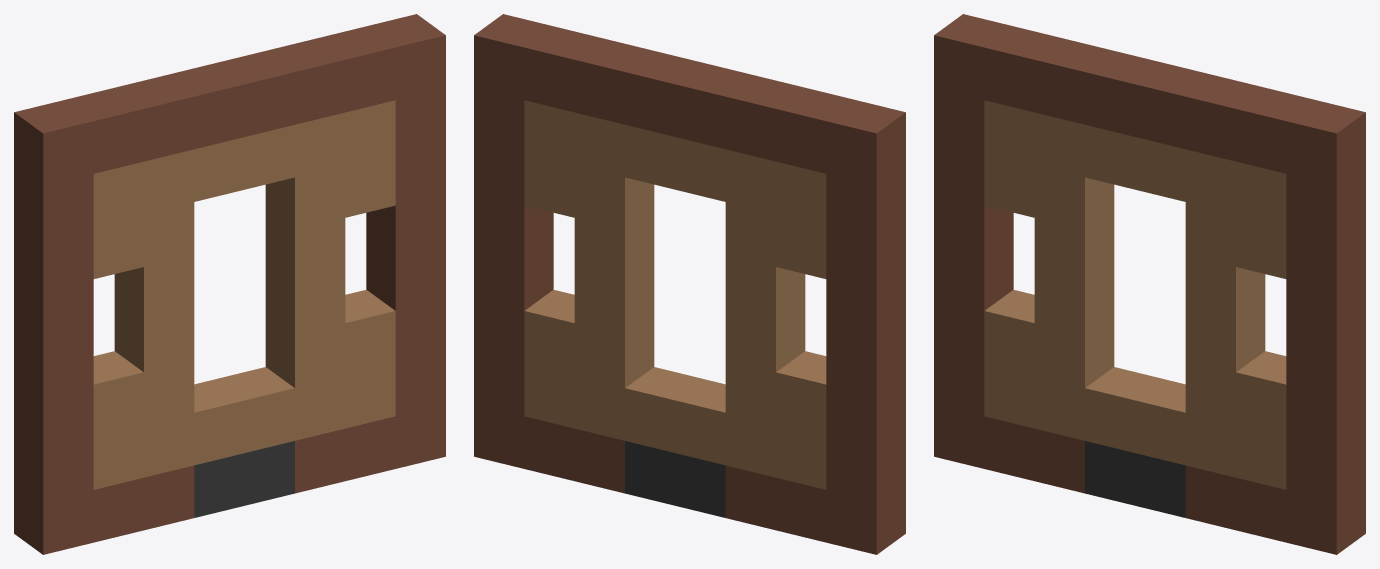
Rendered from Elm Trapdoor.glb.
The picture shows the model from 3 angles, left to right: view 1: azimuth 30°, elevation 25°; view 2: azimuth 150°, elevation 25°; view 3: azimuth 330°, elevation 25°; orthographic projection.
Visible parts, largest first — view 1: generated(Clone); view 2: generated(Clone); view 3: generated(Clone).
Part boxes in pixels (box(x1,y1,x2,y2)): generated(Clone): box(14, 14, 445, 554); generated(Clone): box(474, 14, 905, 554); generated(Clone): box(934, 14, 1365, 554).
Size of the model in its own units: 8 by 8 by 1.
Materials: 1 (1 with a texture image).
